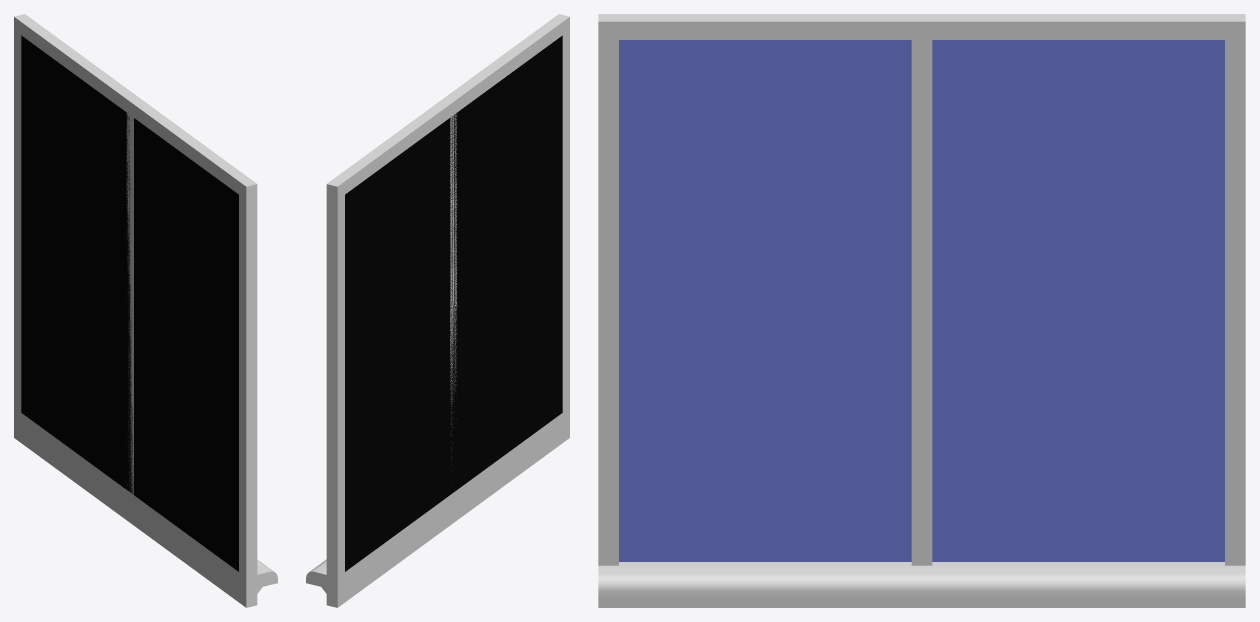
Rendered from window.fbx.
3 renders of one model, left to right at view 1: azimuth 30°, elevation 25°; view 2: azimuth 150°, elevation 25°; view 3: azimuth 270°, elevation 25°, orthographic. The views are drawn at different scales.
Parts seen in each view (by area): view 1: STENCIL, Window_Bottom, Window_Left, Window_Top, Window_Right, Window_Separator; view 2: STENCIL, Window_Bottom, Window_Right, Window_Top, Window_Left, Window_Separator; view 3: Window_Pane, Window_Bottom, Window_Top, Window_Separator, Window_Left, Window_Right.
Part boxes in pixels (box(x1,y1,x2,y2)): STENCIL: box(21, 35, 238, 571); Window_Bottom: box(14, 407, 277, 607); Window_Left: box(239, 195, 257, 577); Window_Top: box(14, 14, 257, 199); Window_Right: box(14, 30, 21, 412); Window_Separator: box(126, 113, 133, 494); STENCIL: box(345, 35, 562, 571); Window_Bottom: box(306, 407, 569, 607); Window_Right: box(326, 195, 344, 577); Window_Top: box(326, 14, 569, 199); Window_Left: box(562, 30, 569, 412); Window_Separator: box(450, 113, 457, 456); Window_Pane: box(619, 40, 1224, 561); Window_Bottom: box(598, 562, 1245, 607); Window_Top: box(598, 14, 1245, 39); Window_Separator: box(911, 40, 932, 565); Window_Left: box(598, 40, 618, 565); Window_Right: box(1225, 40, 1245, 565).
Size of the model in its own units: 7.84 by 100 by 100.
